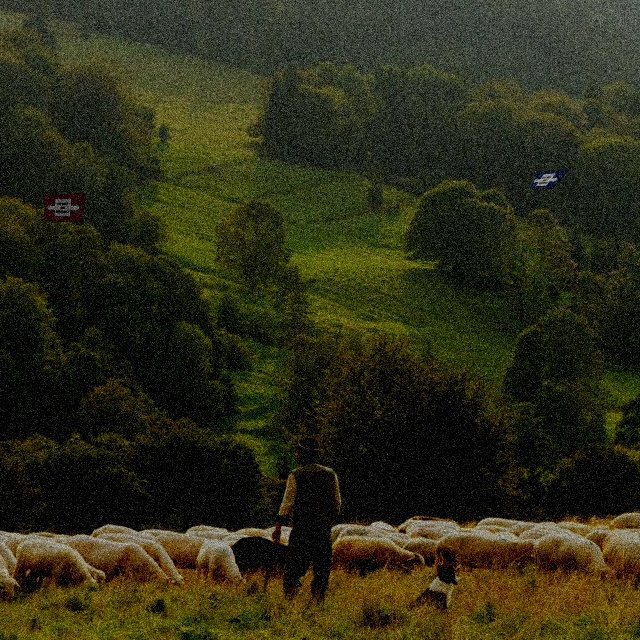DO_NOT_GO_AROUND: (46, 198, 82, 218), (530, 168, 564, 189)
